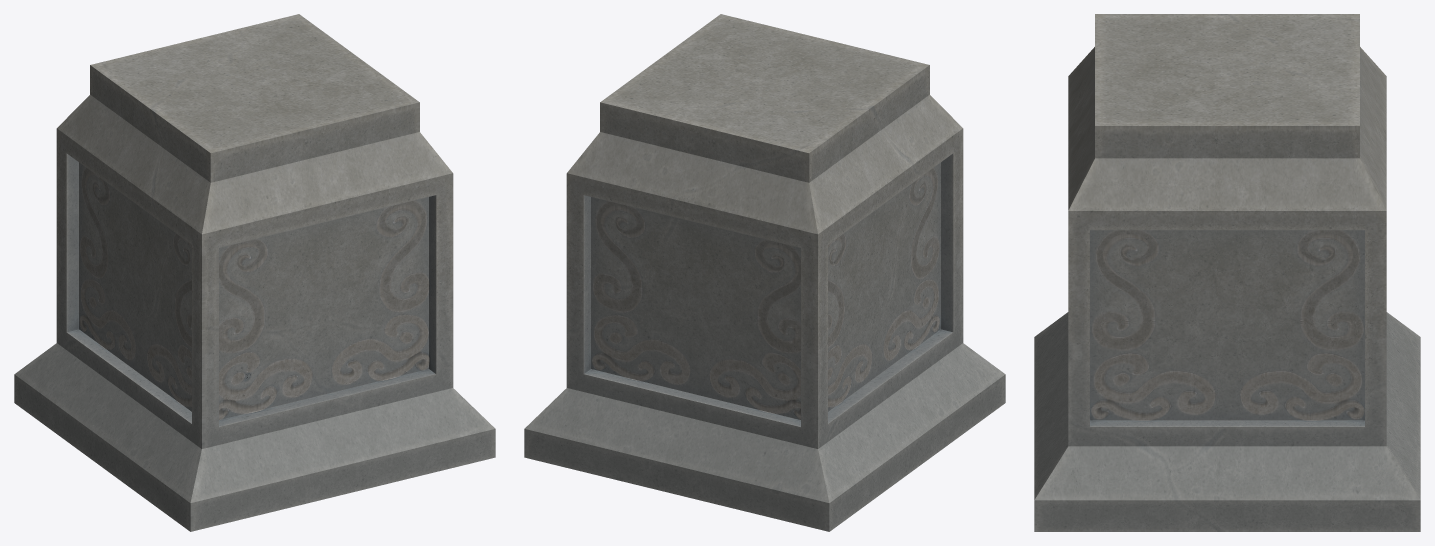
Rendered from Statue Pillar_A.fbx.
3 views of the same model, side by side, from view 1: azimuth 30°, elevation 25°; view 2: azimuth 150°, elevation 25°; view 3: azimuth 270°, elevation 25° (orthographic). The views are drawn at different scales.
Visible parts, largest first — view 1: Statue_Pillar_A; view 2: Statue_Pillar_A; view 3: Statue_Pillar_A.
Part boxes in pixels (x1,y1,x2,y2): Statue_Pillar_A: (14,14,495,531); Statue_Pillar_A: (524,14,1005,531); Statue_Pillar_A: (1034,14,1420,531).
Bounding box in the file's own units: 1647 × 1789 × 1647.
1 material, 1 textured.
